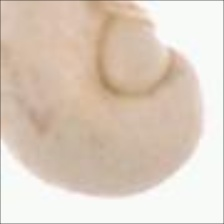L5: (95, 6, 180, 98)
L6: (1, 1, 209, 203)
